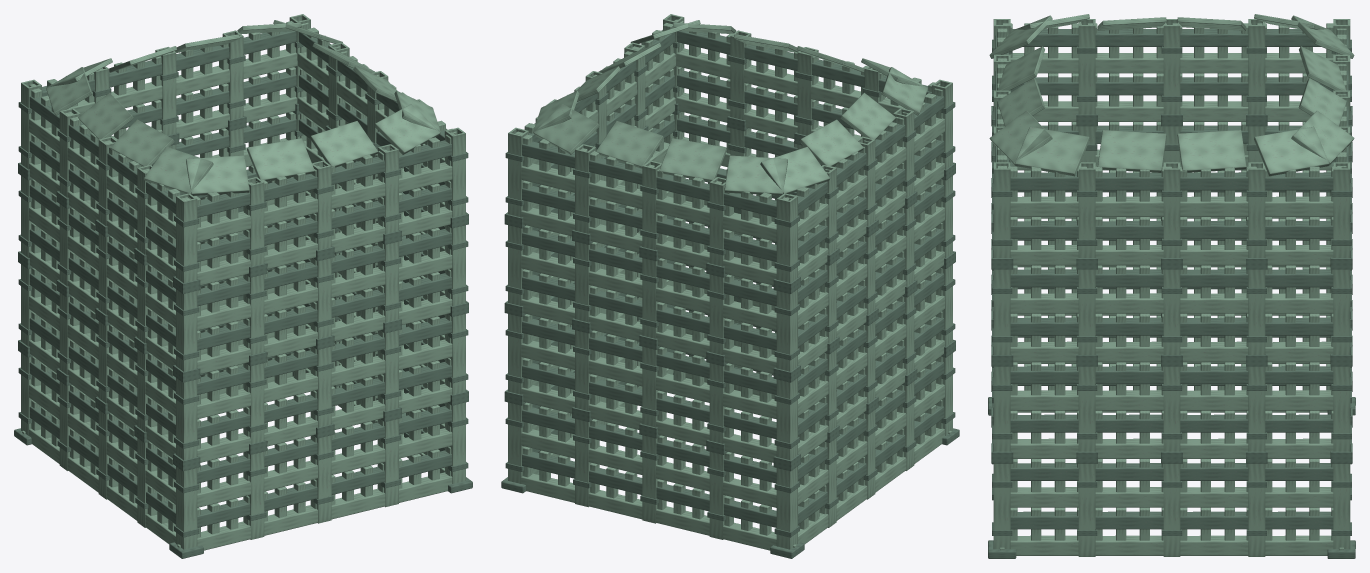
3 views of the same model, side by side, from view 1: azimuth 30°, elevation 25°; view 2: azimuth 150°, elevation 25°; view 3: azimuth 270°, elevation 25° (orthographic). The views are drawn at different scales.
Parts seen in each view (by area): view 1: Crown alloy petal 0-1, Crown alloy petal 0-0, Crown alloy petal 0-2, Crown alloy petal 3-3, Crown alloy petal 3-2, Tier 3 side 0 post 0, Crown alloy petal 0-3, Tier 0 side 0 post 0, Tier 1 side 0 post 0, Tier 2 side 0 post 0, Crown alloy petal 3-1, Tier 3 side 0 post 2 (+113 smaller); view 2: Crown alloy petal 2-2, Crown alloy petal 2-3, Crown alloy petal 2-1, Crown alloy petal 3-0, Crown alloy petal 3-1, Tier 3 side 3 post 0, Crown alloy petal 2-0, Tier 0 side 3 post 0, Tier 1 side 3 post 0, Tier 2 side 3 post 0, Crown alloy petal 3-2, Tier 3 side 2 post 2 (+115 smaller); view 3: Crown alloy petal 1-1, Crown alloy petal 1-2, Crown alloy petal 1-3, Crown alloy petal 1-0, Crown alloy petal 0-3, Crown alloy petal 2-0, Tier 3 side 1 post 2, Tier 3 side 1 post 1, Tier 3 side 1 post 3, Tier 0 side 1 post 1, Tier 0 side 1 post 3, Tier 3 side 1 post 0 (+108 smaller).
Part boxes in pixels (x1=…): Crown alloy petal 0-1: x1=247, y1=138, x2=314, y2=181; Crown alloy petal 0-0: x1=186, y1=155, x2=249, y2=195; Crown alloy petal 0-2: x1=310, y1=121, x2=378, y2=167; Crown alloy petal 3-3: x1=144, y1=146, x2=213, y2=193; Crown alloy petal 3-2: x1=110, y1=119, x2=174, y2=166; Tier 3 side 0 post 0: x1=176, y1=193, x2=197, y2=282; Crown alloy petal 0-3: x1=374, y1=104, x2=440, y2=154; Tier 0 side 0 post 0: x1=176, y1=466, x2=197, y2=549; Tier 1 side 0 post 0: x1=176, y1=378, x2=197, y2=460; Tier 2 side 0 post 0: x1=176, y1=289, x2=197, y2=371; Crown alloy petal 3-1: x1=78, y1=93, x2=133, y2=139; Tier 3 side 0 post 2: x1=310, y1=160, x2=331, y2=250; Crown alloy petal 2-2: x1=659, y1=138, x2=726, y2=181; Crown alloy petal 2-3: x1=724, y1=155, x2=787, y2=195; Crown alloy petal 2-1: x1=596, y1=121, x2=663, y2=168; Crown alloy petal 3-0: x1=760, y1=146, x2=830, y2=193; Crown alloy petal 3-1: x1=799, y1=119, x2=863, y2=166; Tier 3 side 3 post 0: x1=776, y1=193, x2=797, y2=282; Crown alloy petal 2-0: x1=533, y1=104, x2=599, y2=154; Tier 0 side 3 post 0: x1=776, y1=466, x2=797, y2=549; Tier 1 side 3 post 0: x1=776, y1=378, x2=797, y2=460; Tier 2 side 3 post 0: x1=776, y1=289, x2=797, y2=371; Crown alloy petal 3-2: x1=840, y1=92, x2=895, y2=139; Tier 3 side 2 post 2: x1=642, y1=160, x2=661, y2=250; Crown alloy petal 1-1: x1=1097, y1=130, x2=1166, y2=172; Crown alloy petal 1-2: x1=1177, y1=130, x2=1246, y2=172; Crown alloy petal 1-3: x1=1254, y1=126, x2=1329, y2=176; Crown alloy petal 1-0: x1=1015, y1=126, x2=1089, y2=176; Crown alloy petal 0-3: x1=989, y1=110, x2=1052, y2=165; Crown alloy petal 2-0: x1=1291, y1=110, x2=1354, y2=165; Tier 3 side 1 post 2: x1=1163, y1=162, x2=1180, y2=257; Tier 3 side 1 post 1: x1=1078, y1=162, x2=1095, y2=257; Tier 3 side 1 post 3: x1=1248, y1=162, x2=1265, y2=257; Tier 0 side 1 post 1: x1=1078, y1=463, x2=1095, y2=556; Tier 0 side 1 post 3: x1=1248, y1=463, x2=1265, y2=556; Tier 3 side 1 post 0: x1=993, y1=162, x2=1010, y2=257.
Bounding box in the file's own units: 1.95 × 2.38 × 1.95.
2 materials, 2 textured.
